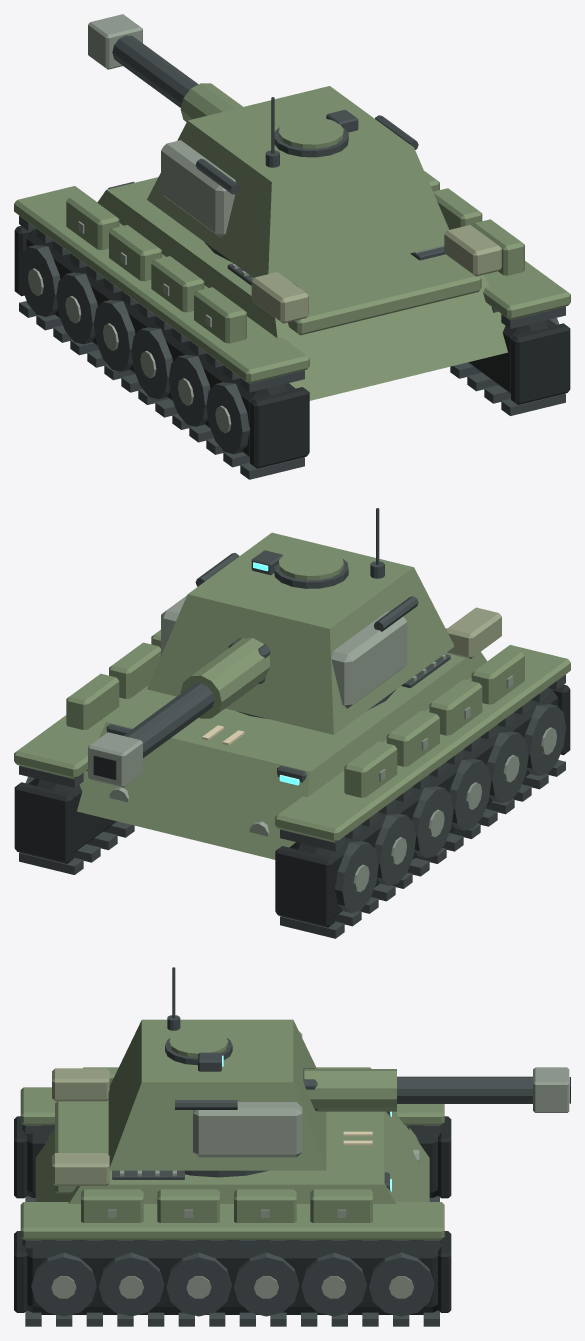
The model's file is tank_guardian_premium.glb.
The picture shows the model from 3 angles, top to bottom: view 1: azimuth 30°, elevation 25°; view 2: azimuth 150°, elevation 25°; view 3: azimuth 270°, elevation 25°; orthographic projection. The views are drawn at different scales.
Visible parts, largest first — view 1: tank_guardian_mk2_TankPaint.007, tank_guardian_mk2_TankPaint.008, tank_guardian_mk2_RunningGear.007, tank_guardian_mk2_TankTracks.007, tank_guardian_mk2_ArmorEdges.008, tank_guardian_mk2_RunningGear.008, tank_guardian_mk2_Canvas.001, tank_guardian_mk2_ArmorEdges.007; view 2: tank_guardian_mk2_TankPaint.007, tank_guardian_mk2_TankPaint.008, tank_guardian_mk2_RunningGear.007, tank_guardian_mk2_TankTracks.007, tank_guardian_mk2_ArmorEdges.008, tank_guardian_mk2_RunningGear.008, tank_guardian_mk2_ArmorEdges.007, tank_guardian_mk2_Canvas.001; view 3: tank_guardian_mk2_TankPaint.007, tank_guardian_mk2_TankPaint.008, tank_guardian_mk2_RunningGear.007, tank_guardian_mk2_TankTracks.007, tank_guardian_mk2_ArmorEdges.008, tank_guardian_mk2_RunningGear.008, tank_guardian_mk2_Canvas.001, tank_guardian_mk2_ArmorEdges.007.
Boxes of the visible parts, left/top/right/bottom form: tank_guardian_mk2_TankPaint.007: left=14, top=171, right=570, bottom=400; tank_guardian_mk2_TankPaint.008: left=147, top=83, right=449, bottom=282; tank_guardian_mk2_RunningGear.007: left=18, top=181, right=565, bottom=479; tank_guardian_mk2_TankTracks.007: left=14, top=226, right=570, bottom=468; tank_guardian_mk2_ArmorEdges.008: left=88, top=14, right=235, bottom=237; tank_guardian_mk2_RunningGear.008: left=112, top=35, right=418, bottom=261; tank_guardian_mk2_Canvas.001: left=251, top=225, right=501, bottom=323; tank_guardian_mk2_ArmorEdges.007: left=28, top=221, right=444, bottom=433; tank_guardian_mk2_TankPaint.007: left=14, top=628, right=570, bottom=859; tank_guardian_mk2_TankPaint.008: left=147, top=532, right=454, bottom=734; tank_guardian_mk2_RunningGear.007: left=19, top=654, right=566, bottom=938; tank_guardian_mk2_TankTracks.007: left=14, top=684, right=570, bottom=927; tank_guardian_mk2_ArmorEdges.008: left=88, top=595, right=407, bottom=787; tank_guardian_mk2_RunningGear.008: left=123, top=508, right=418, bottom=757; tank_guardian_mk2_ArmorEdges.007: left=109, top=654, right=556, bottom=891; tank_guardian_mk2_Canvas.001: left=446, top=607, right=501, bottom=658; tank_guardian_mk2_TankPaint.007: left=20, top=1067, right=444, bottom=1239; tank_guardian_mk2_TankPaint.008: left=108, top=1019, right=396, bottom=1170; tank_guardian_mk2_RunningGear.007: left=25, top=1111, right=439, bottom=1326; tank_guardian_mk2_TankTracks.007: left=14, top=1116, right=451, bottom=1314; tank_guardian_mk2_ArmorEdges.008: left=193, top=1031, right=569, bottom=1157; tank_guardian_mk2_RunningGear.008: left=165, top=967, right=532, bottom=1177; tank_guardian_mk2_Canvas.001: left=52, top=1068, right=109, bottom=1185; tank_guardian_mk2_ArmorEdges.007: left=51, top=1149, right=419, bottom=1298.
Size of the model in its own units: 2.72 by 2.34 by 4.44.
